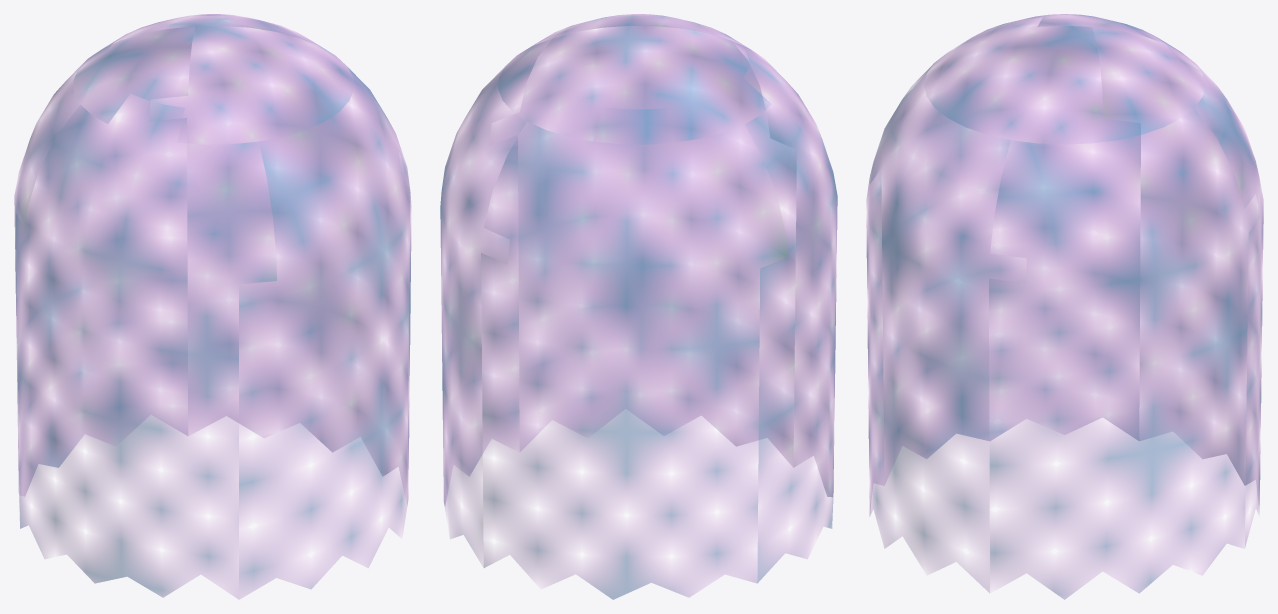
Rendered from ghost-blue.glb.
3 views of the same model, side by side, from view 1: azimuth 30°, elevation 25°; view 2: azimuth 150°, elevation 25°; view 3: azimuth 270°, elevation 25° (orthographic).
Visible parts, largest first — view 1: Sphere; view 2: Sphere; view 3: Sphere.
Part boxes in pixels (<box>): Sphere: <box>14,14,411,599</box>; Sphere: <box>440,14,837,599</box>; Sphere: <box>866,14,1263,599</box>.
Size of the model in its own units: 0.6996 by 0.9419 by 0.6996.
Materials: 1 (1 with a texture image).
